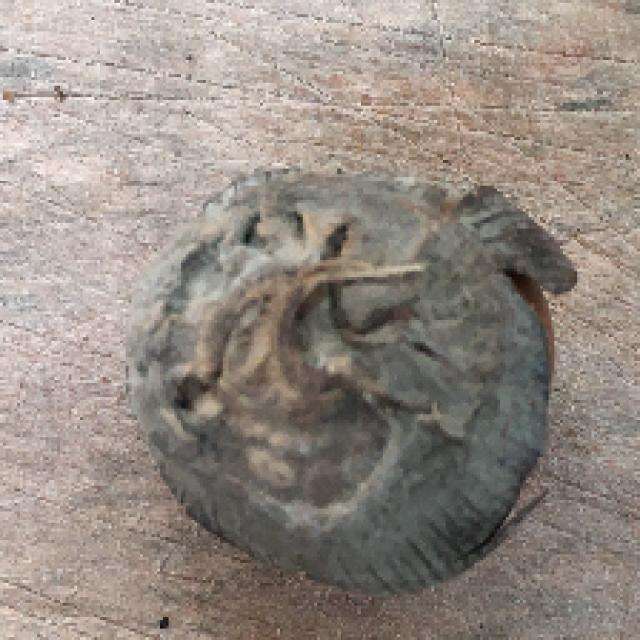damagedHazelnut: (130, 141, 558, 601)
